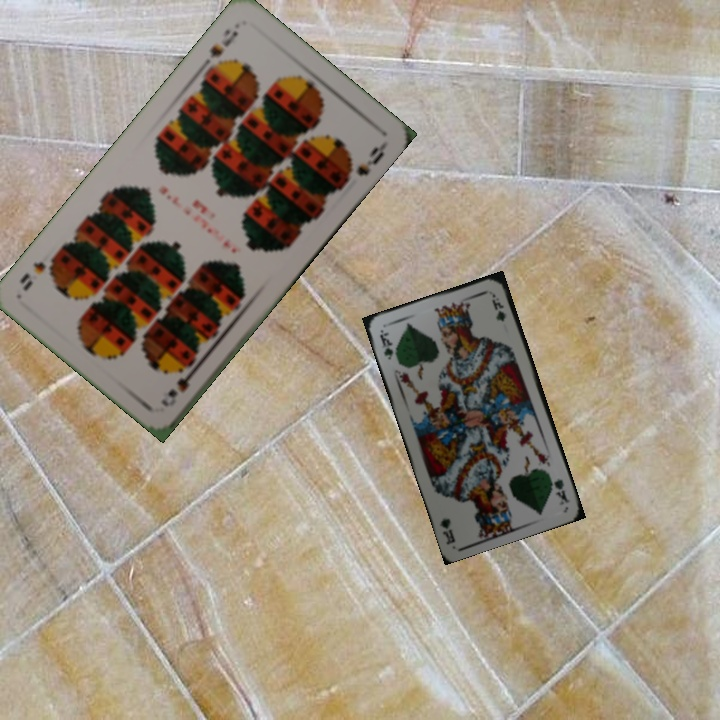GK: (550, 475, 573, 508), (376, 327, 396, 362)
S9: (156, 358, 202, 410), (200, 25, 241, 69)
